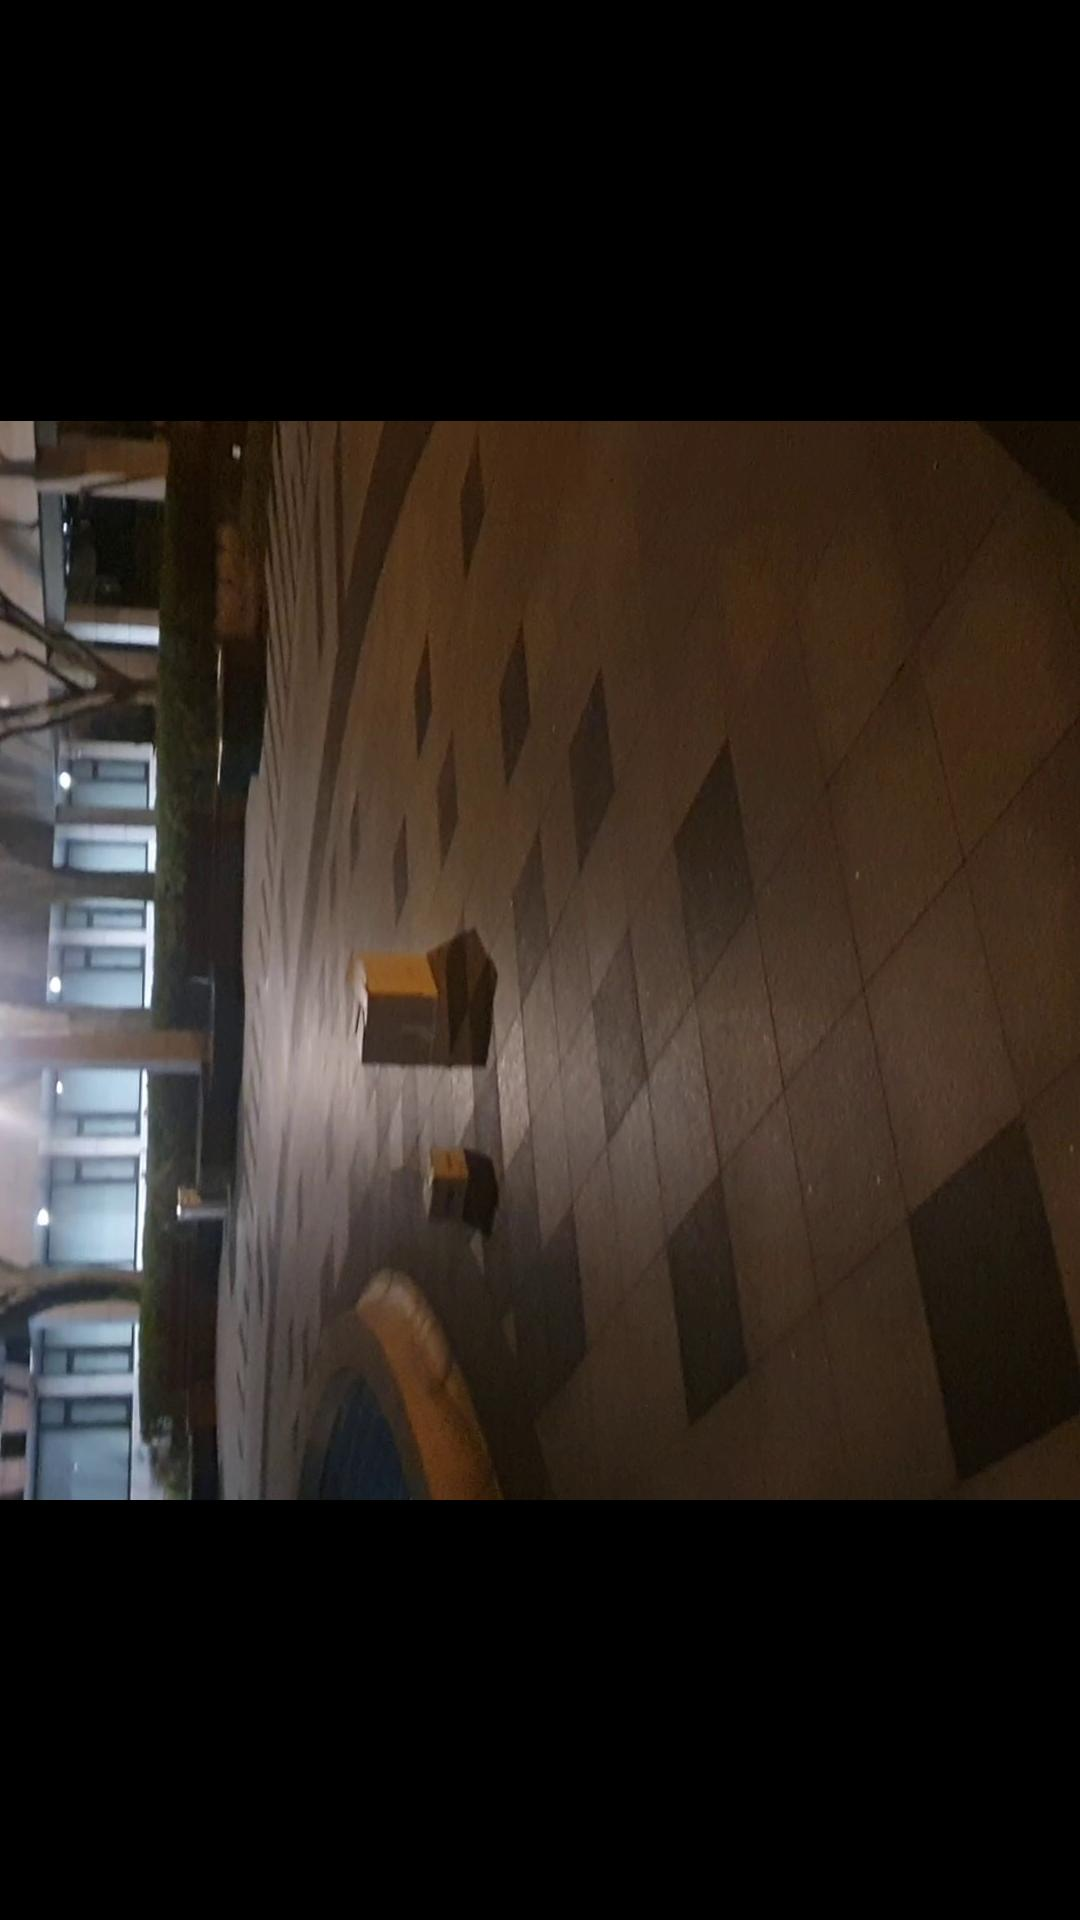Box: (335, 935, 467, 1067), (415, 1131, 491, 1240)
